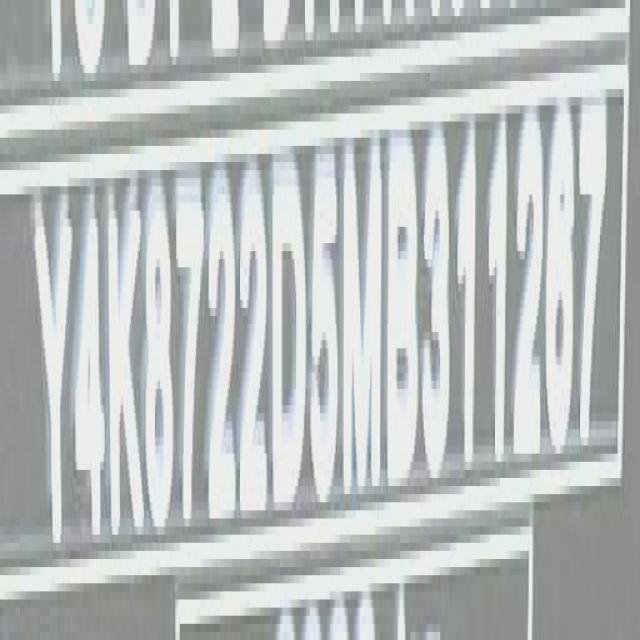1: (482, 105, 513, 482), (456, 113, 484, 479)
2: (236, 144, 270, 522), (207, 159, 241, 531), (512, 96, 546, 465)
3: (418, 122, 456, 485)
4: (70, 178, 112, 554)
5: (307, 135, 342, 512)
6: (544, 90, 582, 461)
7: (576, 87, 610, 459), (177, 151, 210, 532)
8: (142, 154, 176, 537)
B: (385, 124, 423, 491)
D: (270, 142, 308, 522)
K: (108, 165, 146, 546)
M: (342, 130, 388, 505)
Y: (31, 180, 74, 556)
